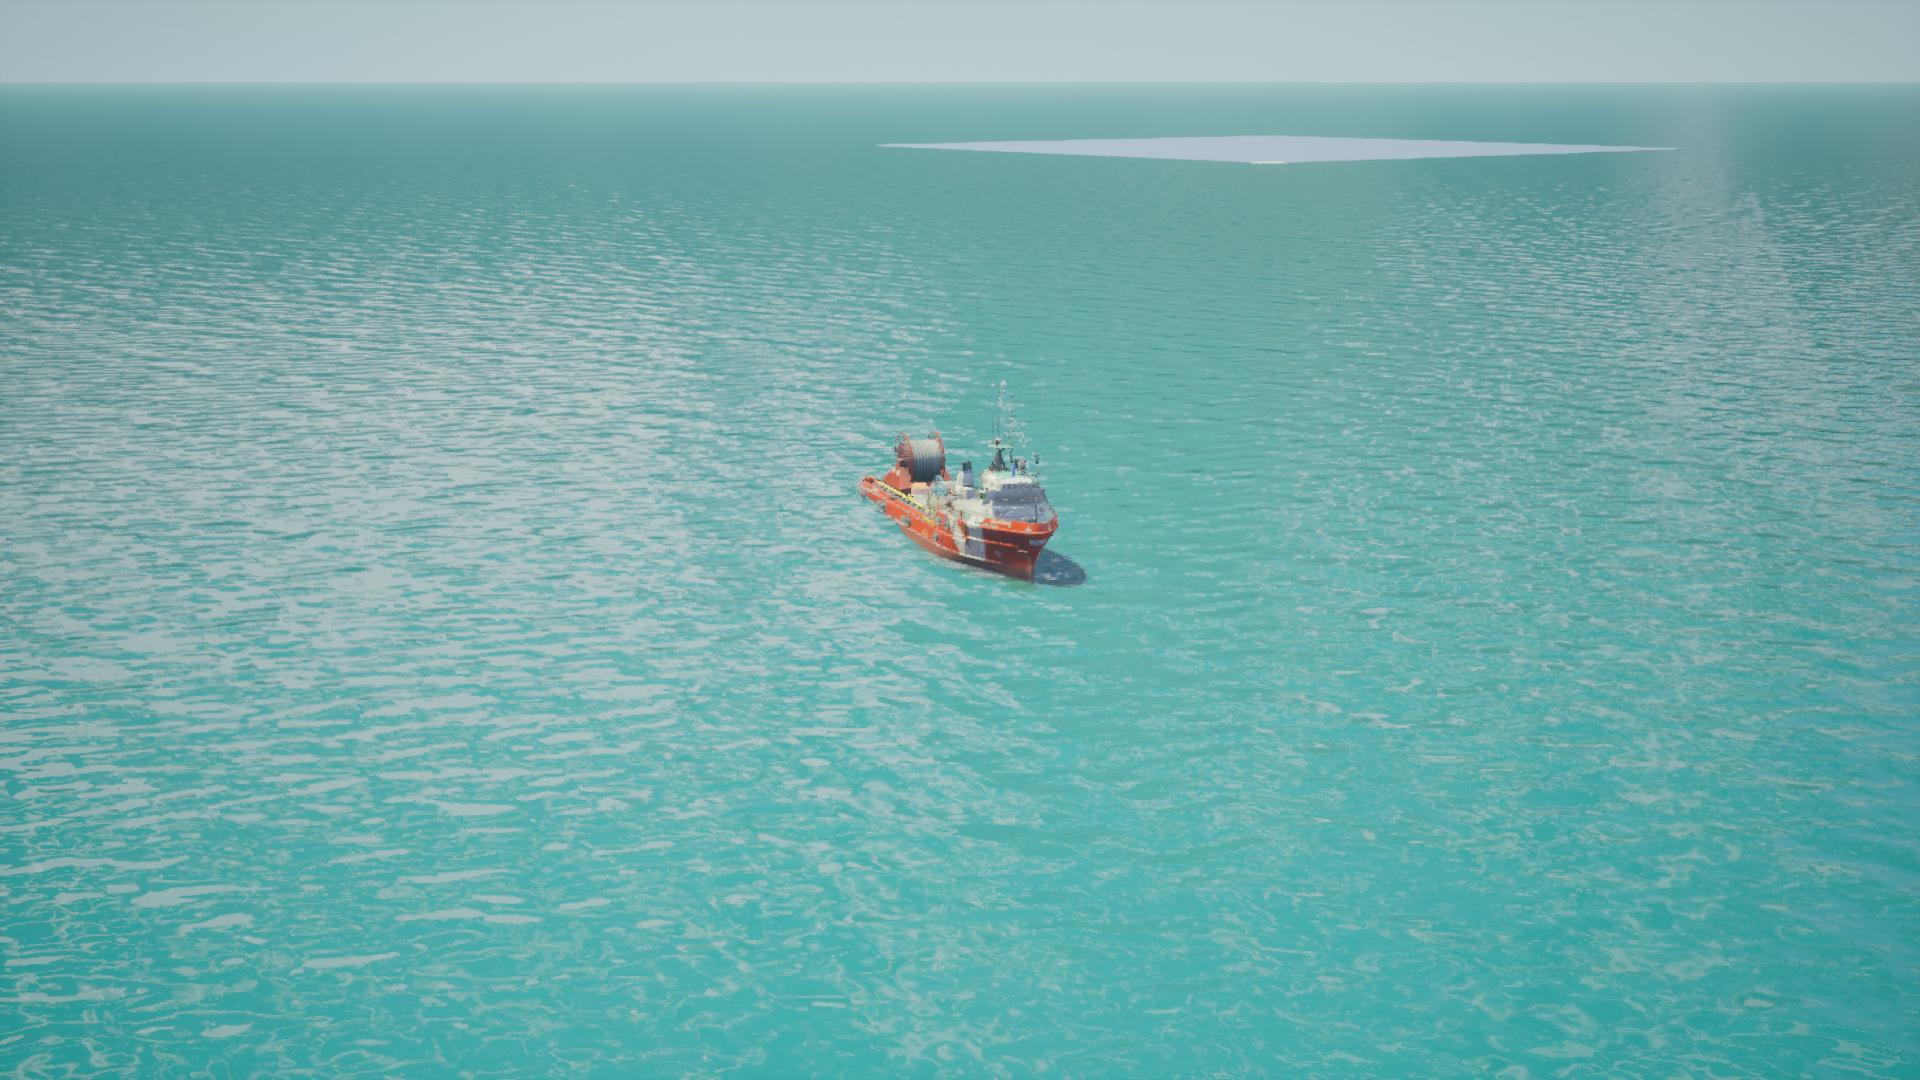Tug Boat: (860, 418, 1073, 587)
